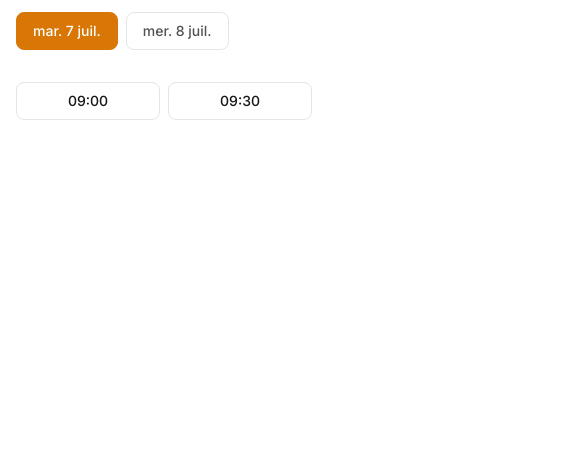
Test: BookingSection › sélectionner un créneau ouvre le mini-formulaire
What coordinates should you click on to do the following:
click the button "09:00"
I would click on:
 (88, 101)
Its box is [16,82,160,120].
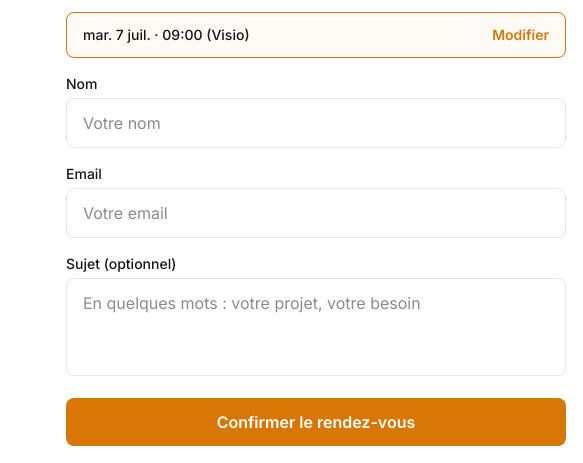
Check: the field labelled "Nom" is shown, box [66,98,566,148]
Check: the field labelled "Email" is shown, box [66,188,566,238]
Check: the button "Confirmer le rendez-vous" is shown, box [66,398,566,446]
